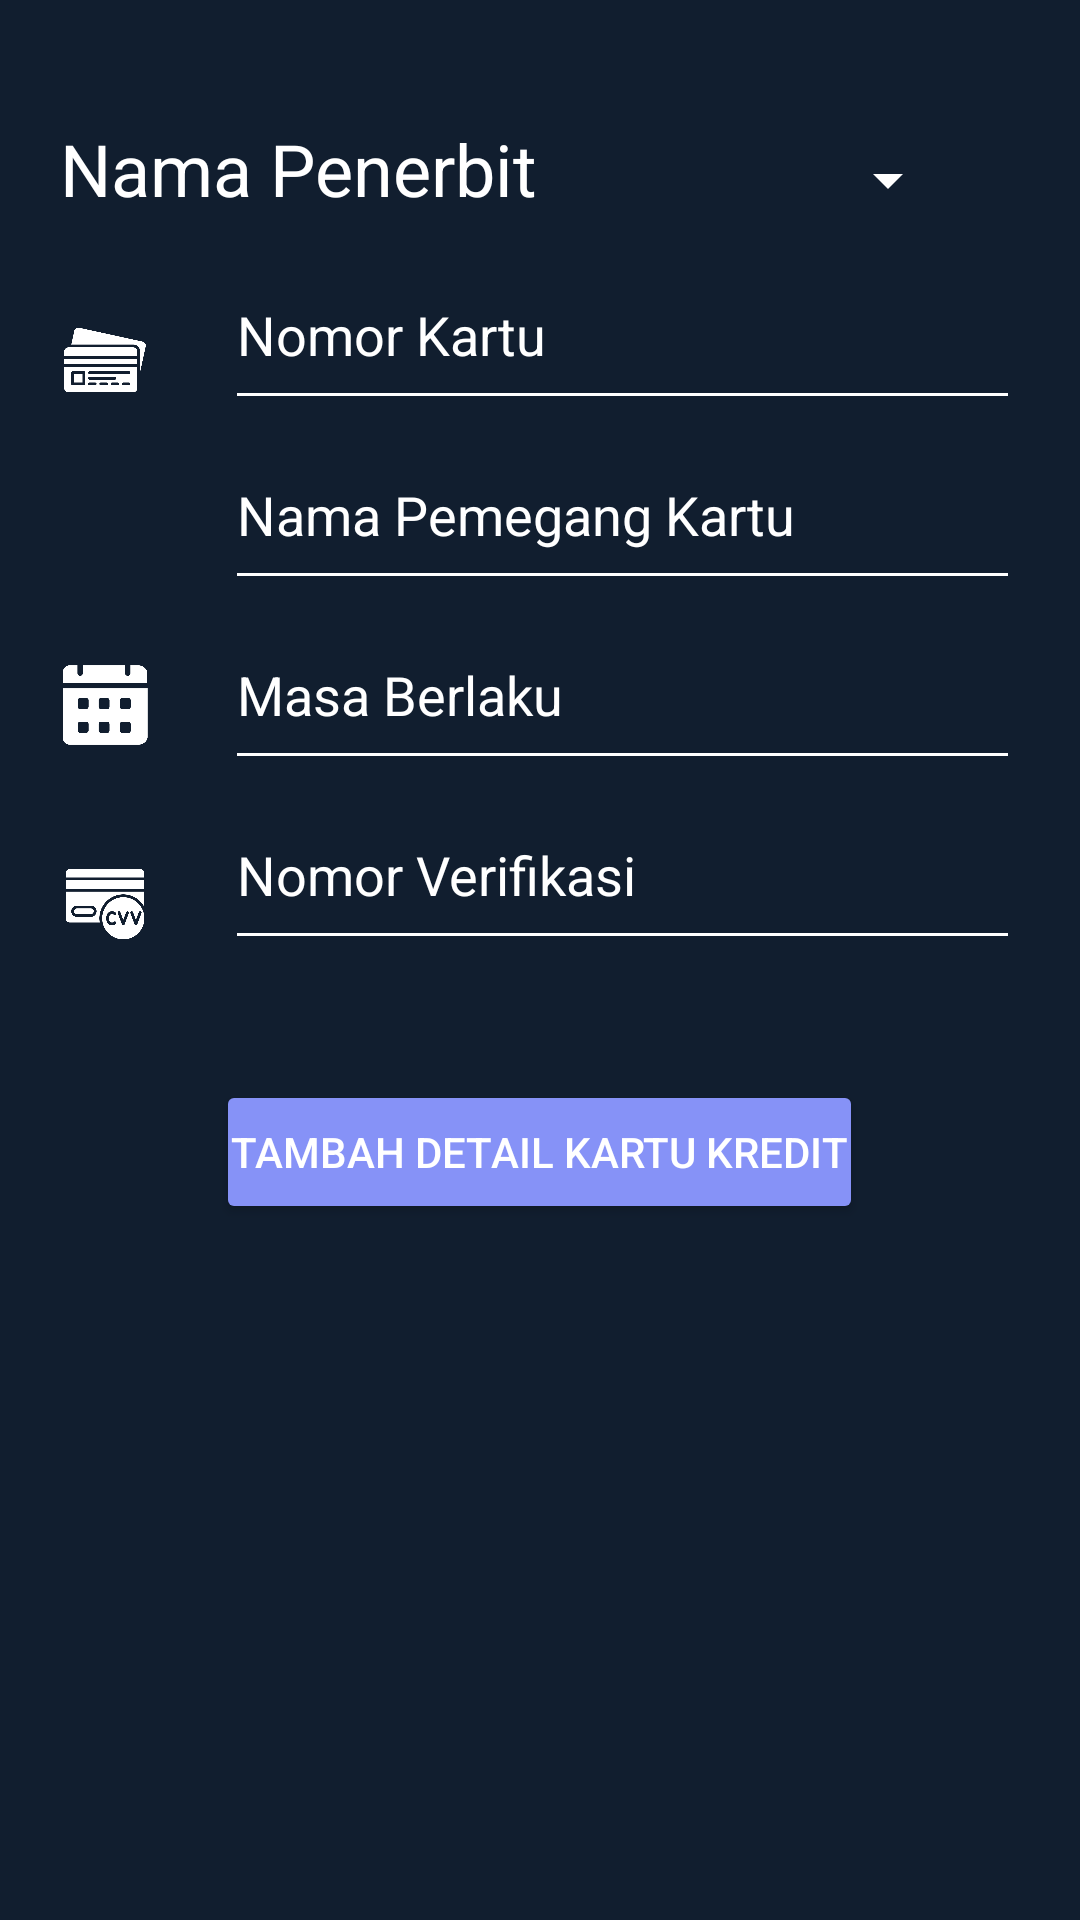

Named icons in this screenshot (1080x1920) and their bounding boxes, (x1, y1, x2, y2):
card: (64, 328, 146, 392)
date: (63, 665, 148, 745)
